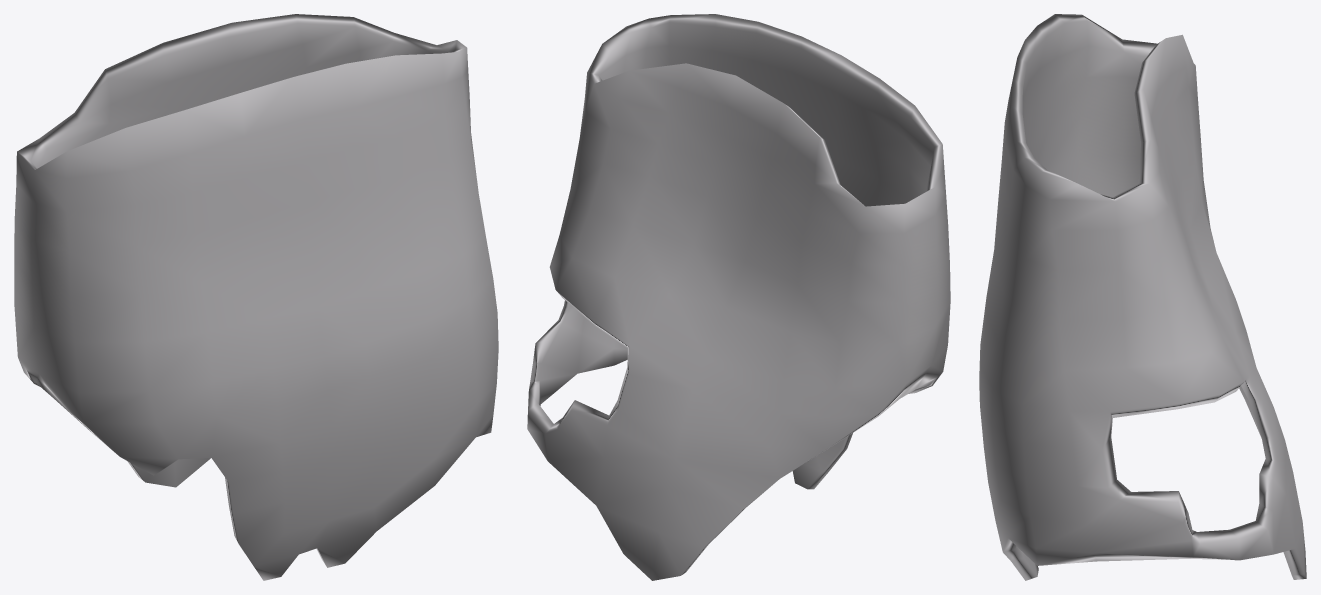
Rendered from Left_Palm.dae.
The picture shows the model from 3 angles, left to right: view 1: azimuth 30°, elevation 25°; view 2: azimuth 150°, elevation 25°; view 3: azimuth 270°, elevation 25°; orthographic projection. The views are drawn at different scales.
Parts seen in each view (by area): view 1: Mesh; view 2: Mesh; view 3: Mesh.
Part boxes in pixels (bbox=[...]): Mesh: bbox=[14, 14, 498, 580]; Mesh: bbox=[527, 14, 950, 580]; Mesh: bbox=[979, 14, 1306, 580].
Bounding box in the file's own units: 0.0961 × 0.1107 × 0.0638.
1 material, 1 textured.
